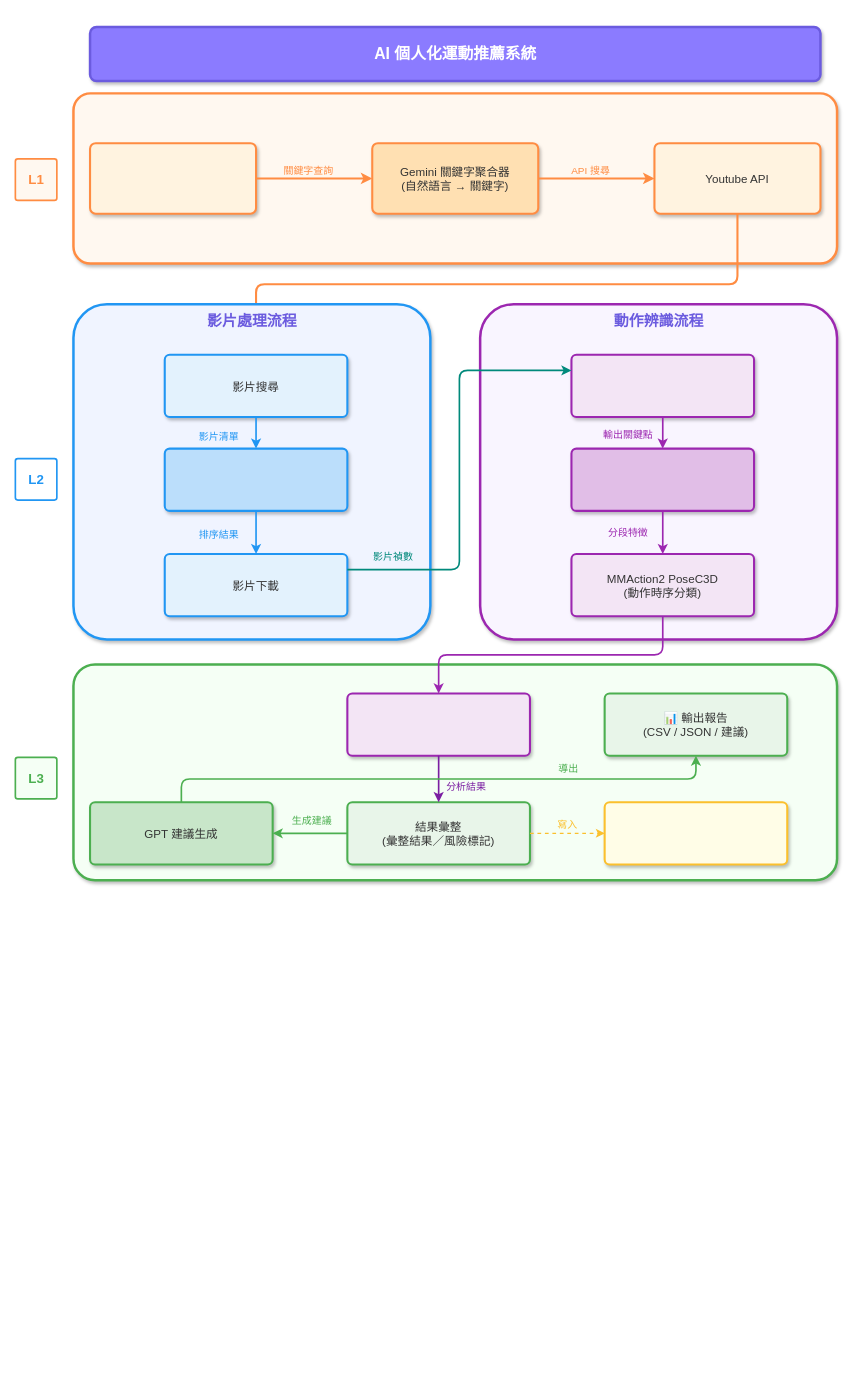
Image size: 857x1374. Some labels were removed from this diagram. Here are the shapes that lost their labels. From the top down, the centre of each, then its label:
At (173,179): "使用者輸入介面 (年齡／病史／運動目標)".
At (663,387): "YOLOv11 Pose 辨識 (骨架偵測)".
At (256,480): "影片篩選 (關鍵詞匹配)".
At (663,480): "特徵提取 (17個關節角度)".
At (439,725): "MySQL 資料庫 (姿勢匹配器)".
At (696,834): "MySQL 資料庫 (結果儲存)".
